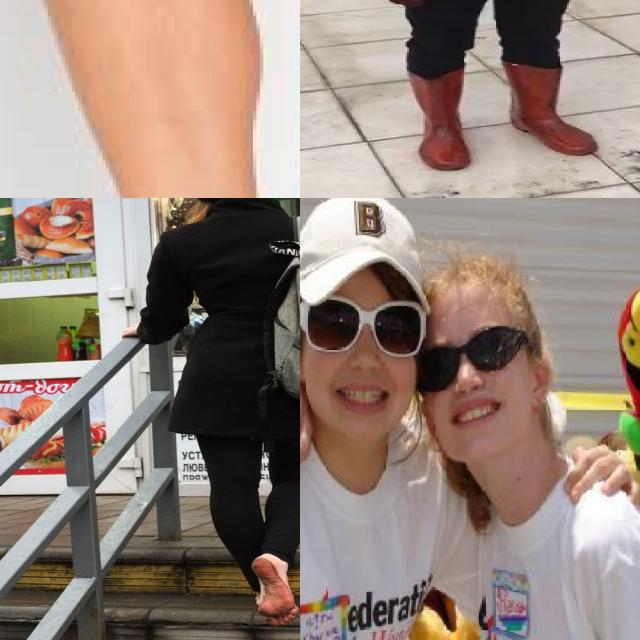Barefoots: (251, 555, 300, 626)
boots: (502, 59, 598, 155), (407, 67, 469, 170)
face_nomask: (301, 294, 417, 422), (420, 330, 515, 431)
glasses: (300, 292, 426, 363), (410, 325, 530, 398)
hand_noglove: (564, 442, 638, 514)
head_nohelmet: (300, 198, 429, 303), (415, 250, 521, 326)
person: (419, 267, 640, 640), (300, 226, 463, 640), (322, 0, 620, 173)
